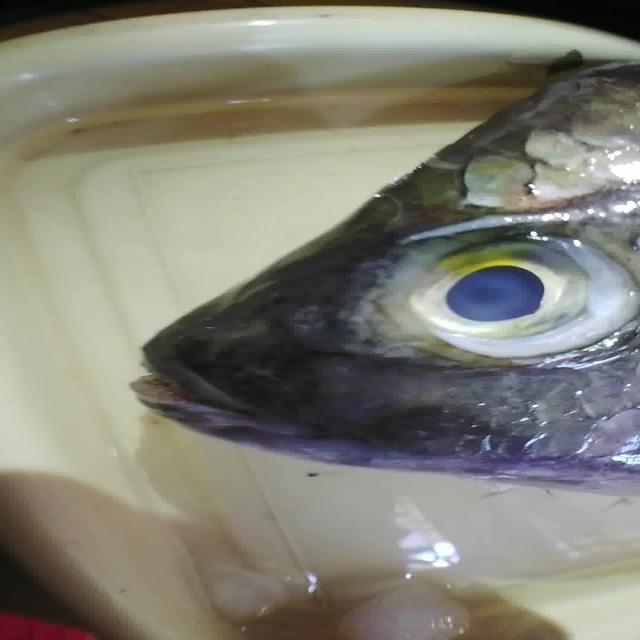Fresh: (401, 225, 628, 364)
